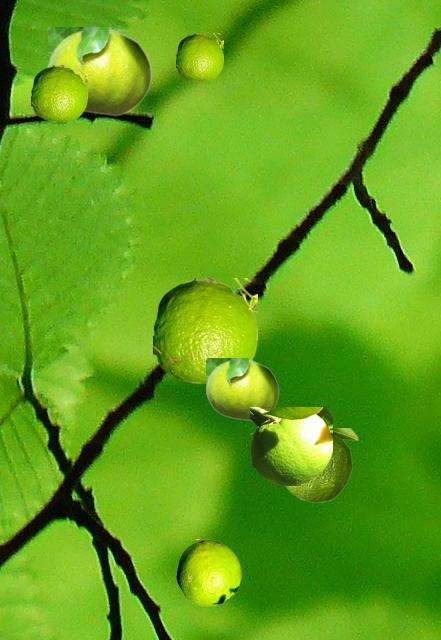dalandan: (153, 278, 256, 383), (48, 27, 151, 115), (250, 407, 331, 484), (284, 428, 357, 501), (206, 358, 278, 420), (176, 539, 240, 605), (31, 65, 86, 121), (176, 33, 222, 80)
